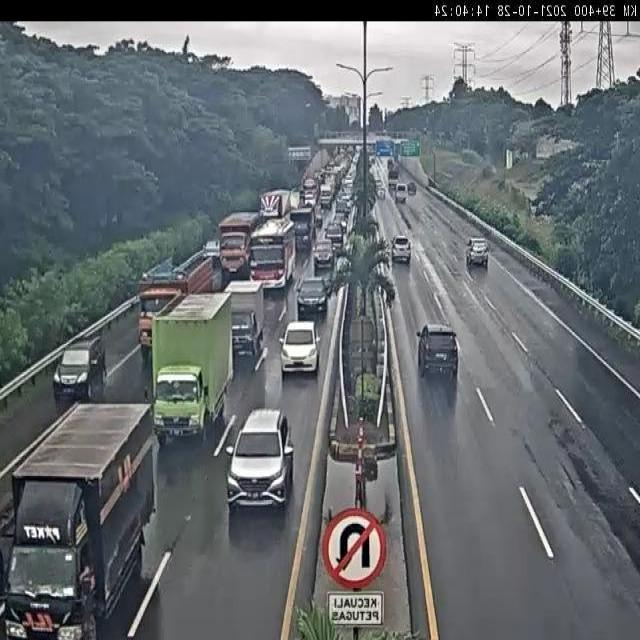Bus: (249, 217, 296, 293)
Car: (227, 406, 296, 513), (51, 336, 105, 402), (417, 322, 459, 383), (279, 321, 320, 376), (296, 278, 329, 320), (313, 238, 333, 269), (468, 238, 490, 265), (392, 236, 412, 263), (325, 222, 344, 248), (396, 182, 408, 202)
Truck: (5, 402, 156, 636), (150, 293, 236, 447), (223, 280, 267, 369), (218, 212, 260, 286), (290, 202, 316, 250)
